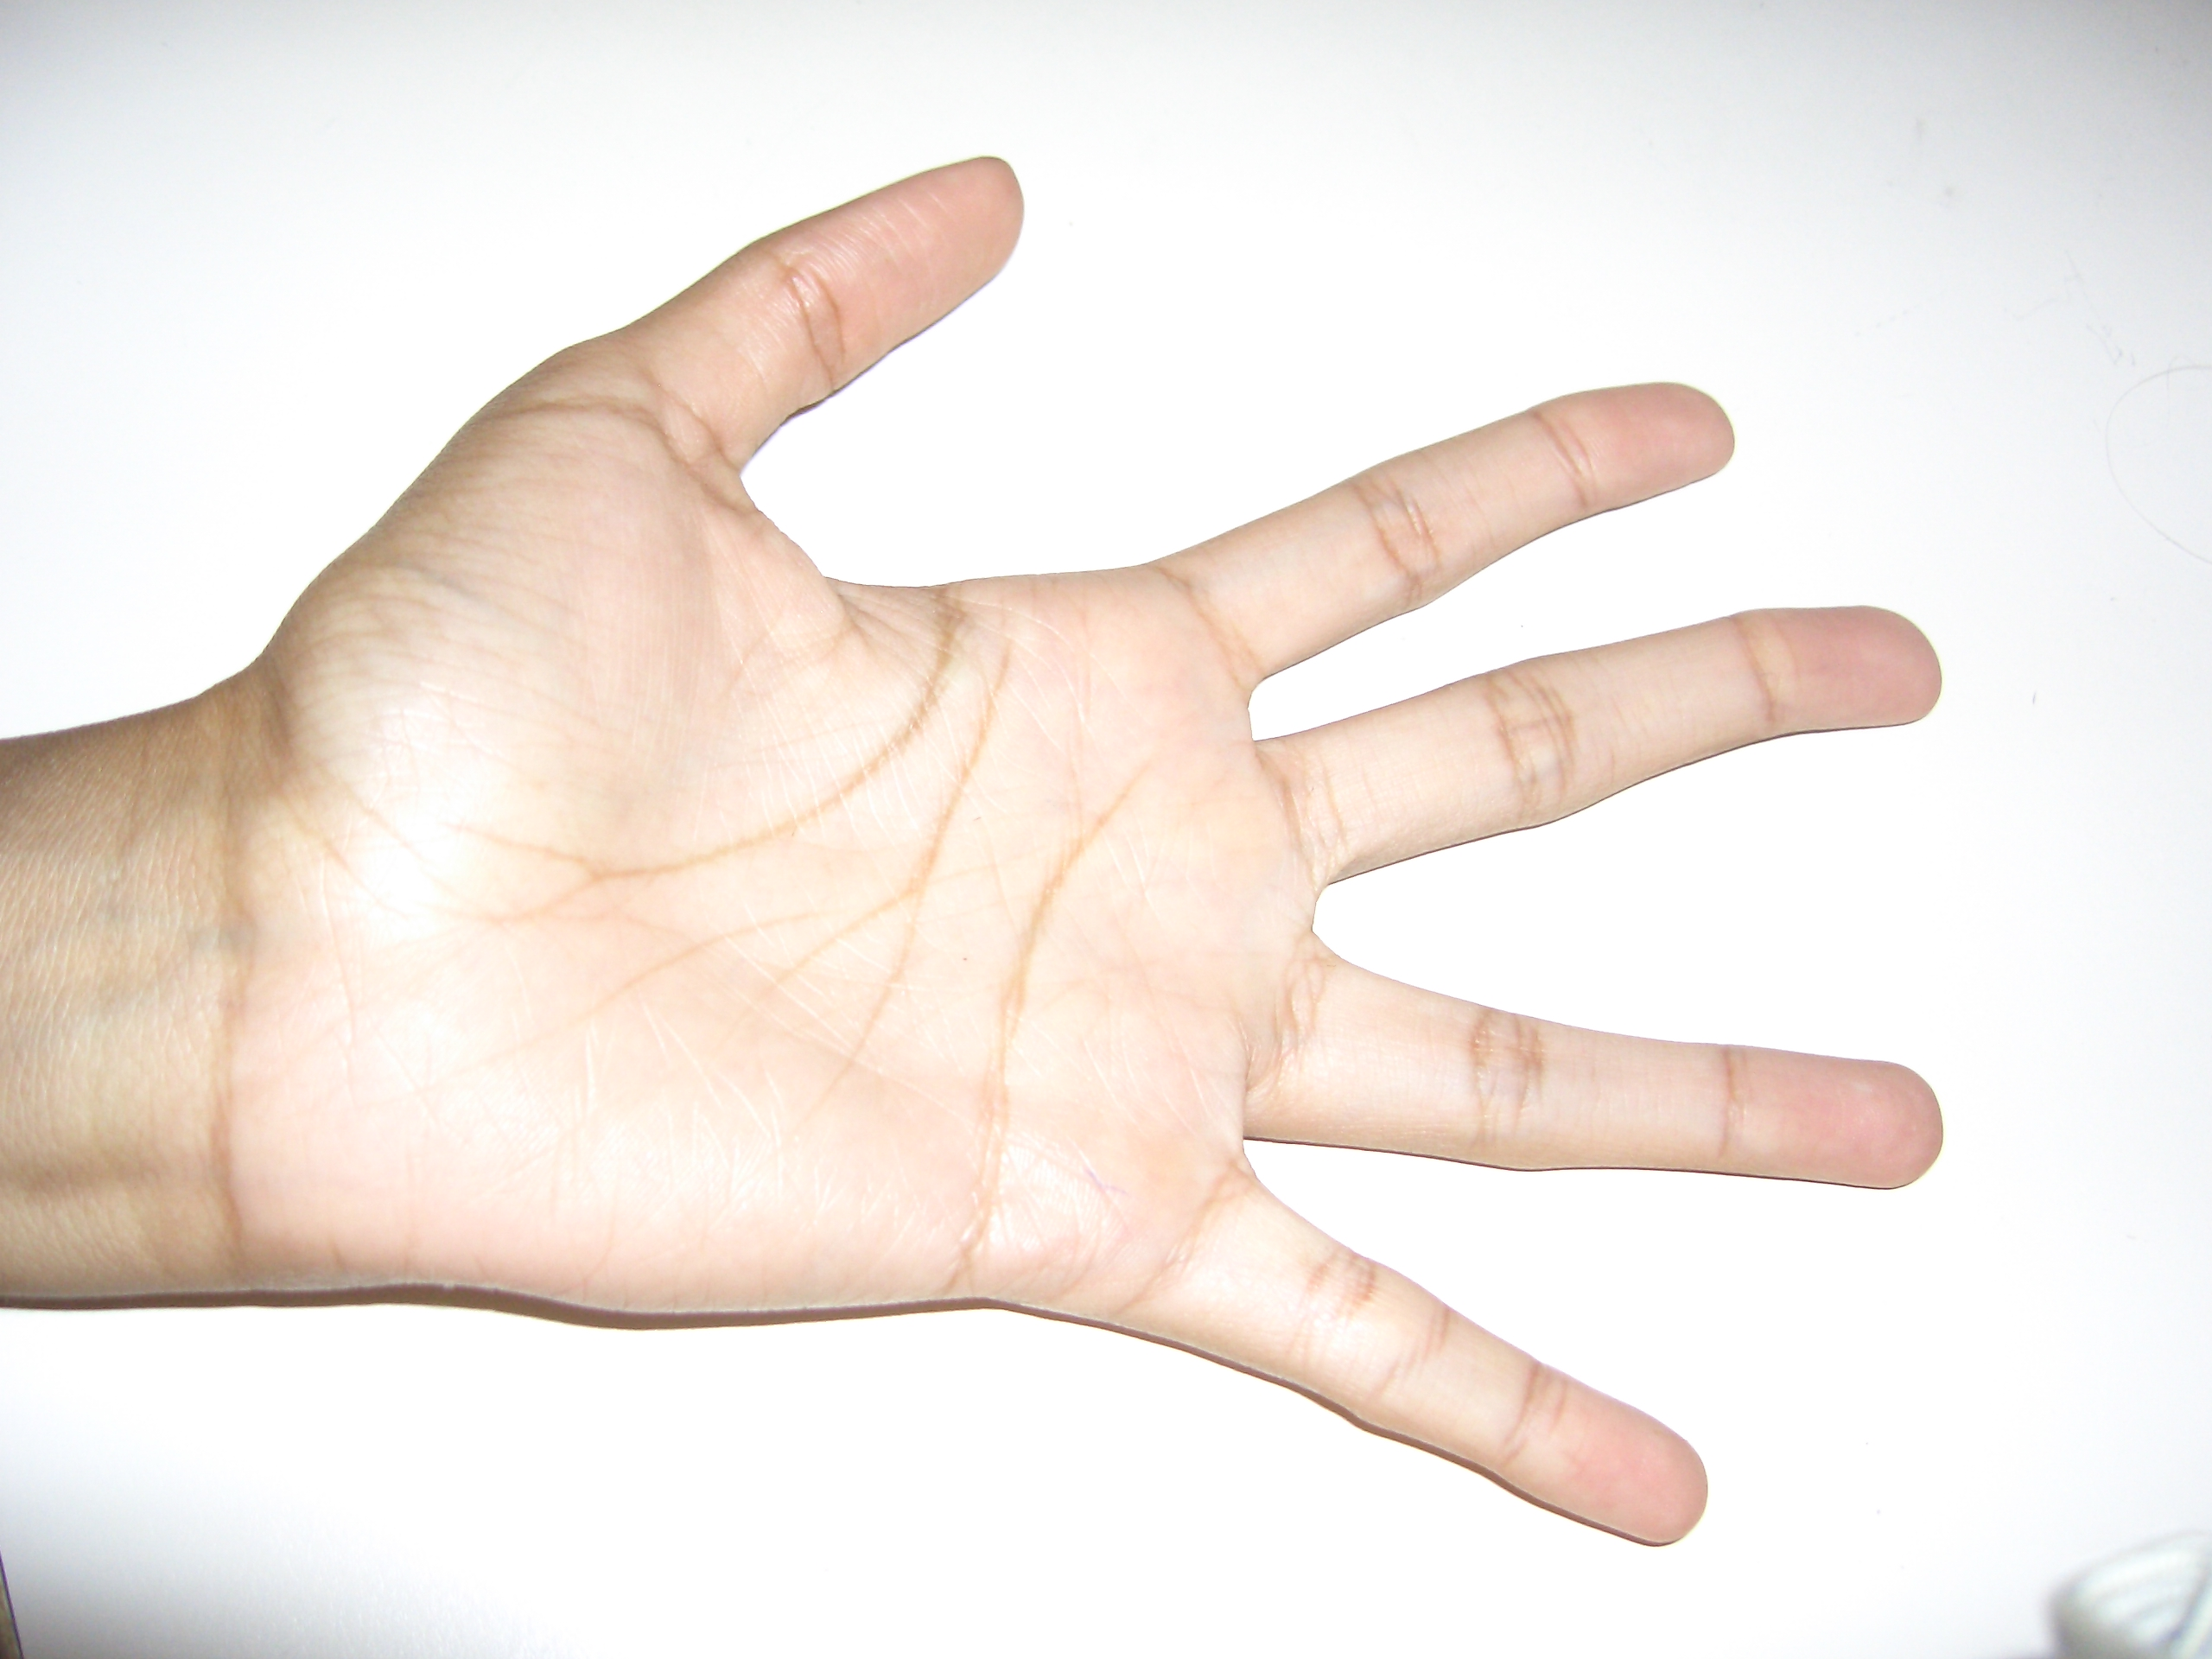finger: (1188, 1171, 1771, 1577), (1254, 584, 1973, 882), (1122, 352, 1743, 683), (1223, 1021, 1977, 1194)
